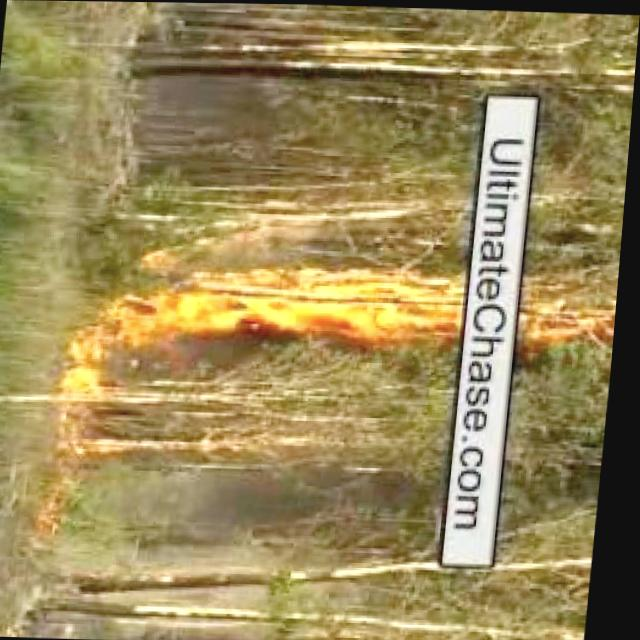helmet: (71, 246, 472, 386), (522, 282, 622, 340)
